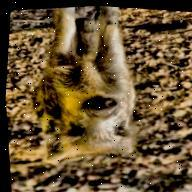boar: (12, 1, 149, 178)
